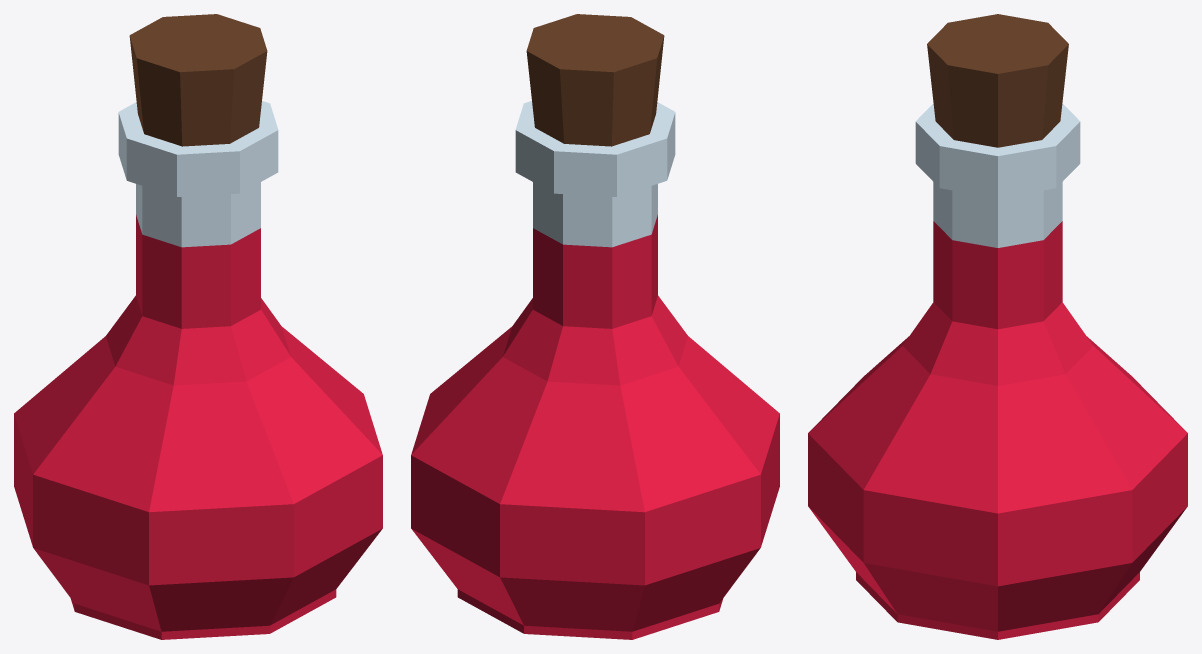
File: potion.fbx
3 renders of one model, left to right at view 1: azimuth 30°, elevation 25°; view 2: azimuth 150°, elevation 25°; view 3: azimuth 270°, elevation 25°, orthographic.
Visible parts, largest first — view 1: Potion; view 2: Potion; view 3: Potion.
Boxes of the visible parts, left/top/right/bottom form: Potion: left=14, top=14, right=382, bottom=639; Potion: left=411, top=14, right=779, bottom=639; Potion: left=808, top=14, right=1187, bottom=639.
Size of the model in its own units: 68.79 by 107 by 68.79.
